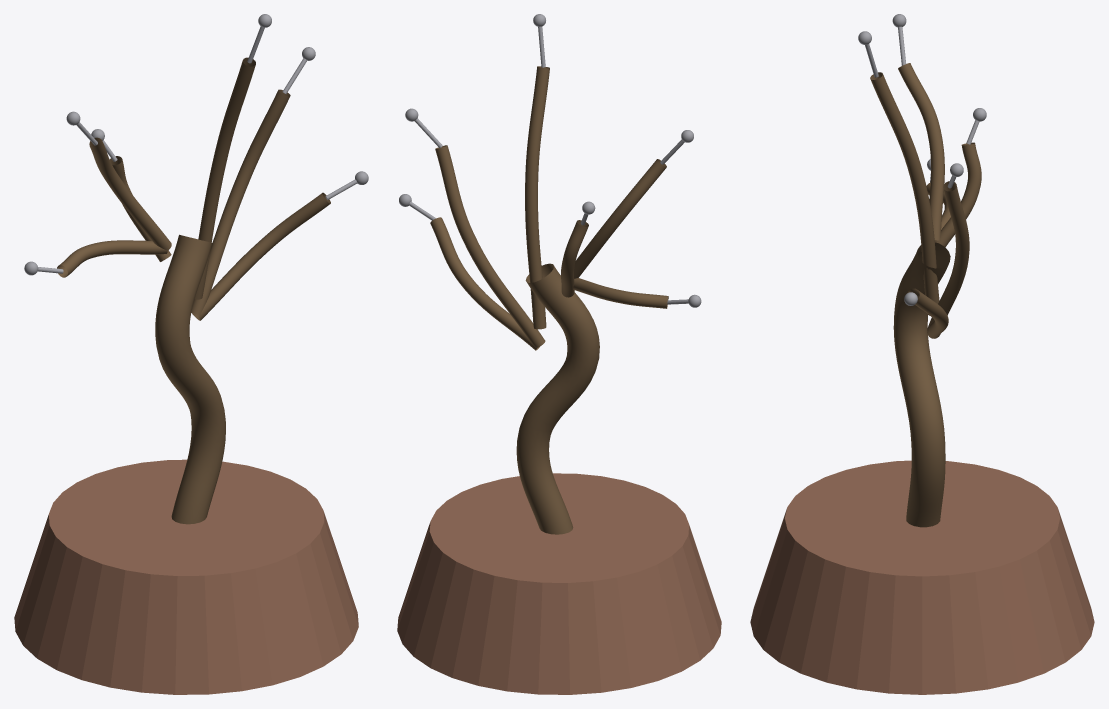
The model's file is antennabonsai.glb.
3 views of the same model, side by side, from view 1: azimuth 30°, elevation 25°; view 2: azimuth 150°, elevation 25°; view 3: azimuth 270°, elevation 25° (orthographic). The views are drawn at different scales.
Visible parts, largest first — view 1: Cone, cbl, cbl.001, cbl.003, cbl.005, cbl.002, cbl.006; view 2: Cone, cbl, cbl.003, cbl.001, cbl.005, cbl.002, cbl.006, cbl.004; view 3: Cone, cbl, cbl.003, cbl.002, cbl.001, cbl.004, cbl.005.
Part boxes in pixels (x1=…): Cone: x1=14, y1=459, x2=358, y2=694; cbl: x1=155, y1=234, x2=225, y2=524; cbl.001: x1=191, y1=89, x2=290, y2=315; cbl.003: x1=194, y1=57, x2=255, y2=299; cbl.005: x1=191, y1=192, x2=330, y2=320; cbl.002: x1=89, y1=137, x2=171, y2=250; cbl.006: x1=57, y1=240, x2=167, y2=277; Cone: x1=397, y1=473, x2=721, y2=694; cbl: x1=516, y1=263, x2=599, y2=534; cbl.003: x1=525, y1=66, x2=549, y2=329; cbl.001: x1=435, y1=145, x2=545, y2=347; cbl.005: x1=430, y1=217, x2=539, y2=350; cbl.002: x1=574, y1=159, x2=666, y2=278; cbl.006: x1=573, y1=278, x2=668, y2=308; cbl.004: x1=561, y1=220, x2=588, y2=297; Cone: x1=750, y1=460, x2=1094, y2=694; cbl: x1=893, y1=242, x2=950, y2=527; cbl.003: x1=870, y1=72, x2=939, y2=315; cbl.002: x1=898, y1=63, x2=944, y2=240; cbl.001: x1=927, y1=181, x2=969, y2=330; cbl.004: x1=934, y1=142, x2=981, y2=247; cbl.005: x1=908, y1=288, x2=948, y2=338.
Size of the model in its own units: 0.664 by 1.18 by 0.6.
